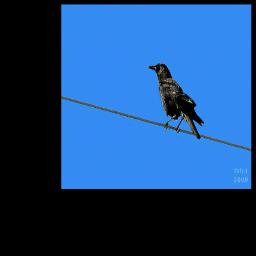Crow: (146, 62, 205, 140)
